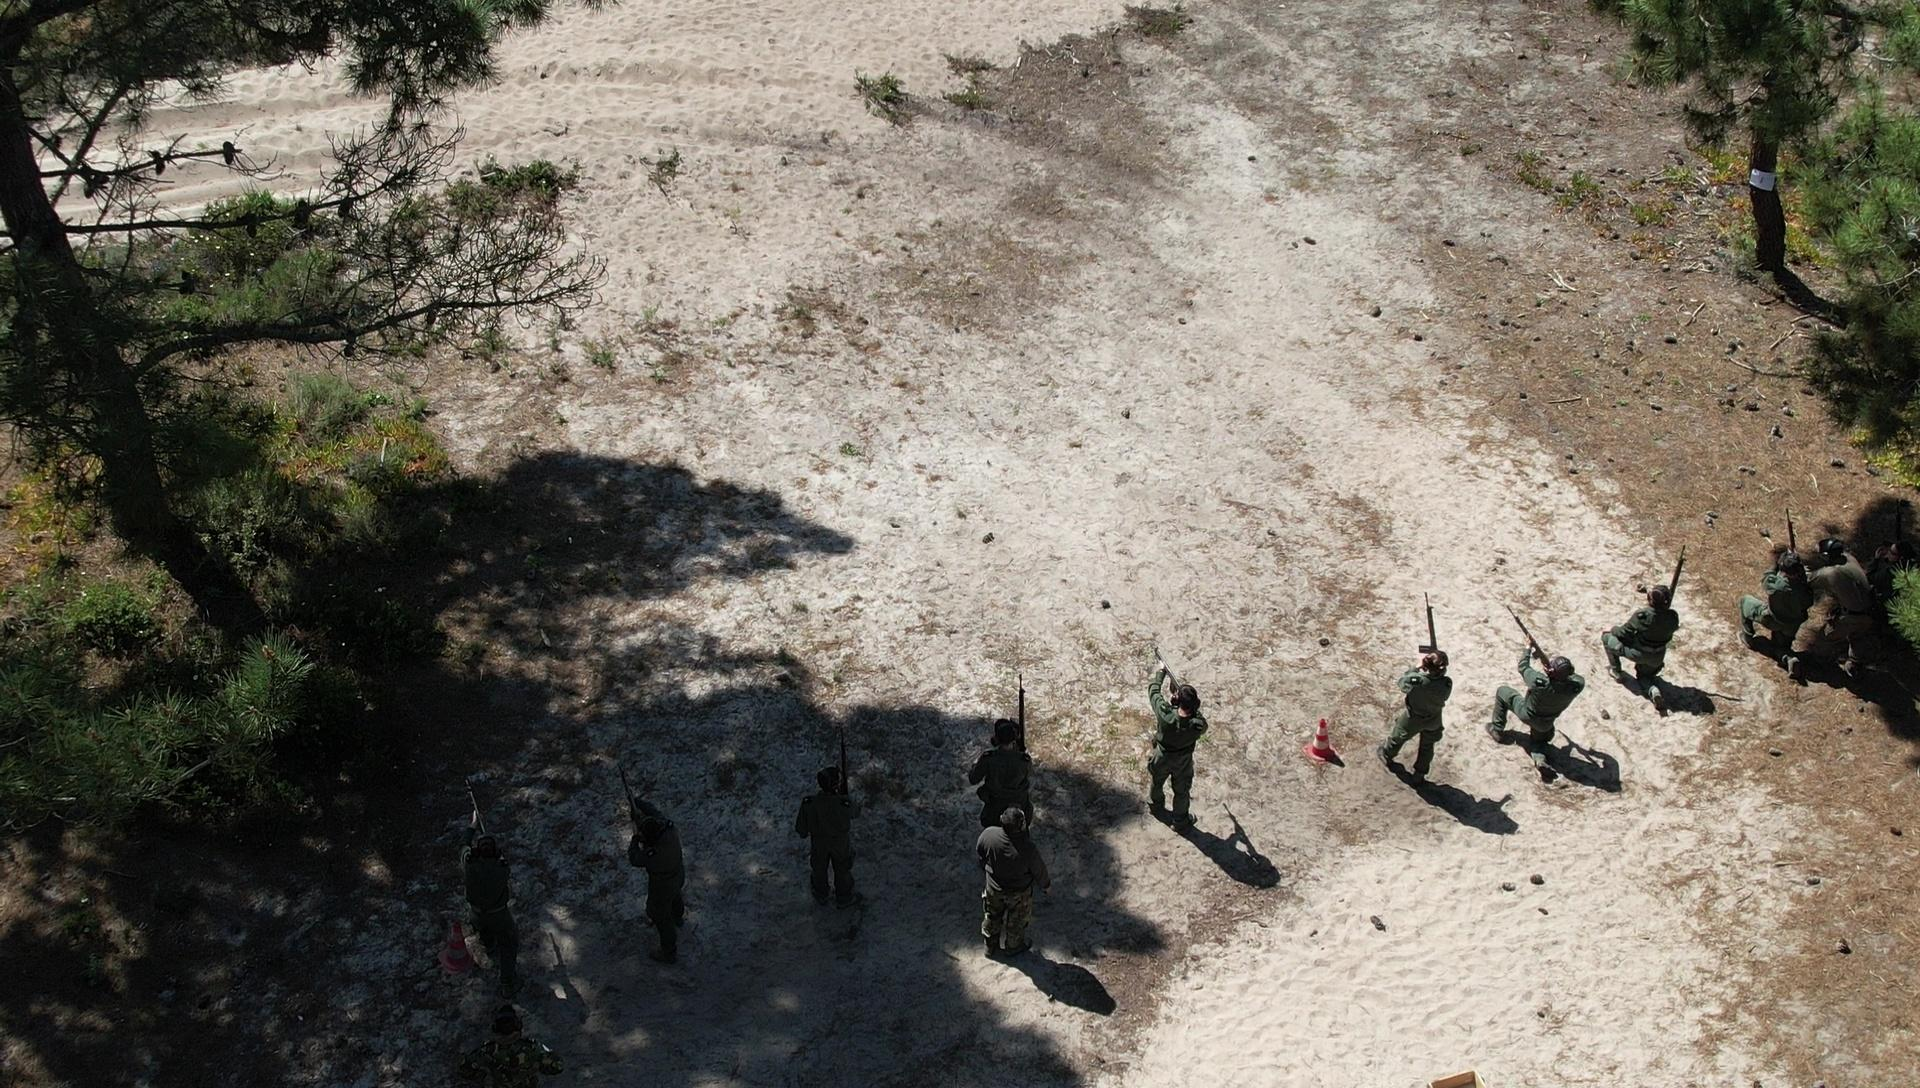Soldier: (1373, 607, 1470, 798), (1491, 612, 1588, 803), (448, 808, 537, 1000), (791, 715, 873, 921), (620, 771, 700, 976), (1602, 549, 1692, 727), (1133, 659, 1213, 843), (1749, 502, 1818, 684), (968, 820, 1058, 961), (1822, 535, 1878, 680), (971, 723, 1042, 835)
